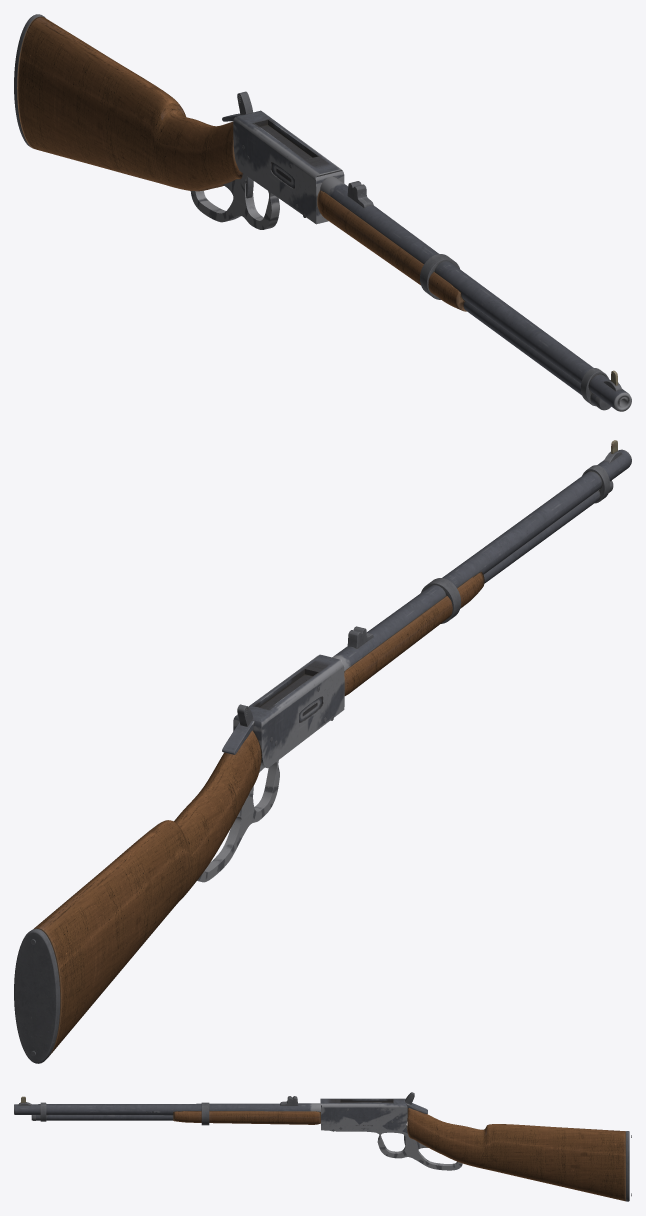
File: lever.glb
The picture shows the model from 3 angles, top to bottom: view 1: azimuth 30°, elevation 25°; view 2: azimuth 150°, elevation 25°; view 3: azimuth 270°, elevation 25°; orthographic projection. The views are drawn at different scales.
Parts seen in each view (by area): view 1: body, moving; view 2: body, moving; view 3: body, moving.
Boxes of the visible parts, x1=… form: body: x1=14, y1=14, x2=631, y2=411; moving: x1=190, y1=173, x2=279, y2=229; body: x1=14, y1=440, x2=631, y2=1063; moving: x1=197, y1=760, x2=279, y2=882; body: x1=14, y1=1096, x2=631, y2=1201; moving: x1=330, y1=1130, x2=462, y2=1170.
Size of the model in its own units: 0.042 by 0.1887 by 0.9774.
Materials: 4 (4 with a texture image).
